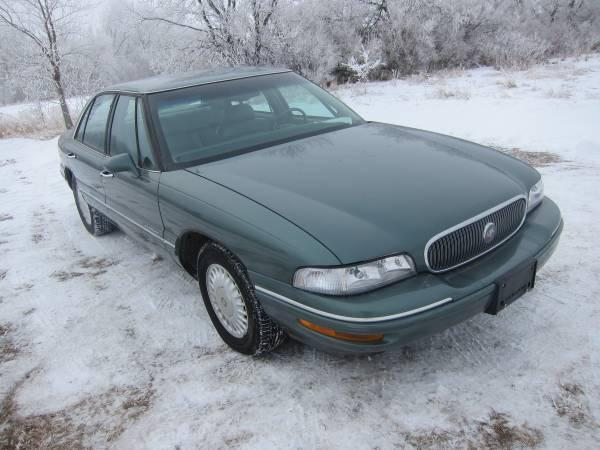Front_Bumper: (251, 197, 566, 355)
Front_Fender: (161, 167, 340, 288)
Front_Right_Door: (106, 158, 165, 254)
Front_Right_Window: (108, 95, 163, 171)
Front_Windshield: (154, 74, 366, 167)
Grille: (413, 194, 530, 272)
Hood: (182, 120, 539, 264)
Left_Headlight: (525, 175, 545, 216)
Rear_Right_Door: (60, 138, 112, 212)
Rear_Right_Window: (69, 93, 117, 156)
Right_Headlight: (296, 252, 420, 294)
Roof: (89, 73, 286, 173)
Wheel: (196, 246, 281, 358), (74, 180, 112, 238)
